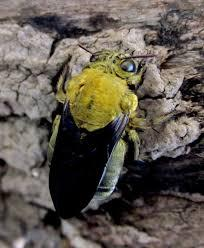Xylocopa: (37, 43, 149, 221)
